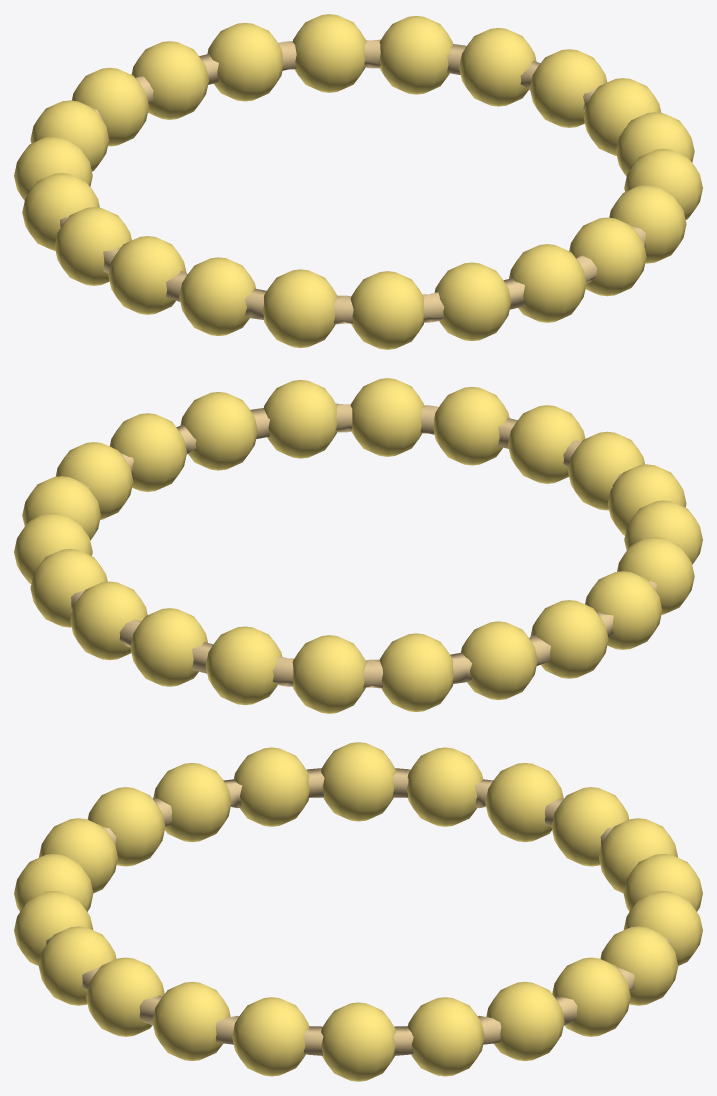
File: acc_pearls.glb
The picture shows the model from 3 angles, top to bottom: view 1: azimuth 30°, elevation 25°; view 2: azimuth 150°, elevation 25°; view 3: azimuth 270°, elevation 25°; orthographic projection.
Visible parts, largest first — view 1: center, body; view 2: center, body; view 3: center, body.
Boxes of the visible parts, box(x1,y1,x2,y2) form: center: box(14, 14, 702, 349); body: box(60, 39, 645, 324); center: box(14, 378, 702, 713); body: box(71, 403, 656, 688); center: box(14, 742, 702, 1081); body: box(46, 768, 670, 1055).
Bounding box in the file's own units: 0.7 × 0.08 × 0.6937.
